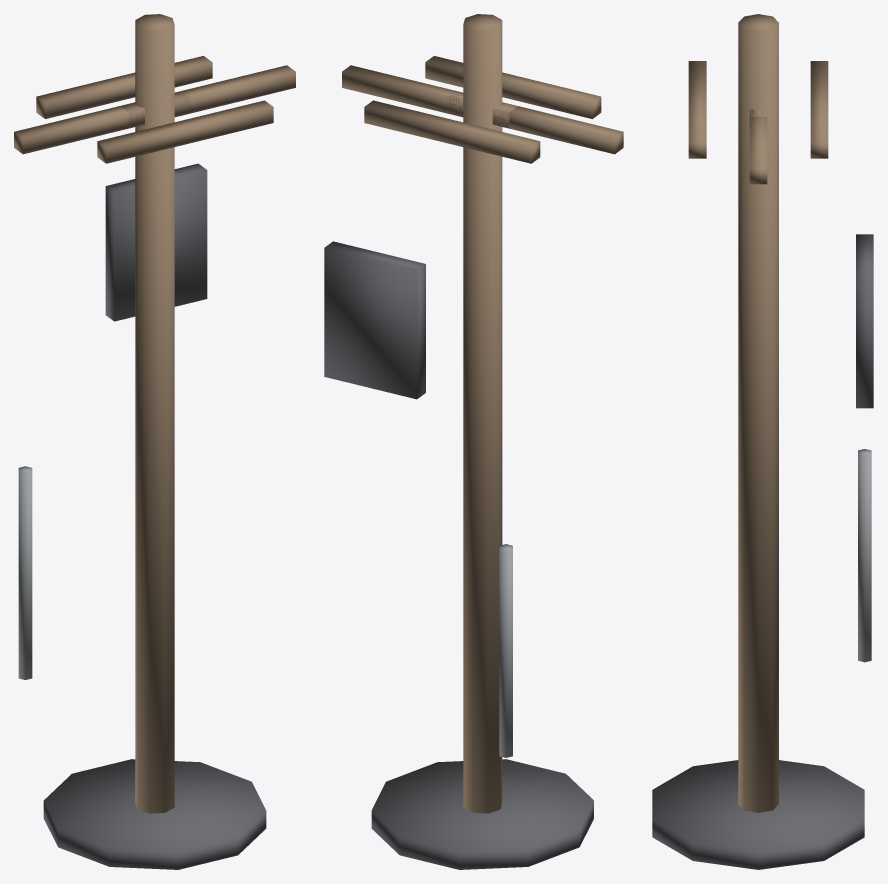
The model's file is coat_rack__service.glb.
3 views of the same model, side by side, from view 1: azimuth 30°, elevation 25°; view 2: azimuth 150°, elevation 25°; view 3: azimuth 270°, elevation 25° (orthographic).
Parts seen in each view (by area): view 1: world; view 2: world; view 3: world.
Boxes of the visible parts, x1,y1,x2,y2 form: world: [14, 14, 295, 869]; world: [324, 14, 623, 869]; world: [652, 14, 873, 869].
Bounding box in the file's own units: 0.62 × 1.74 × 0.436.
